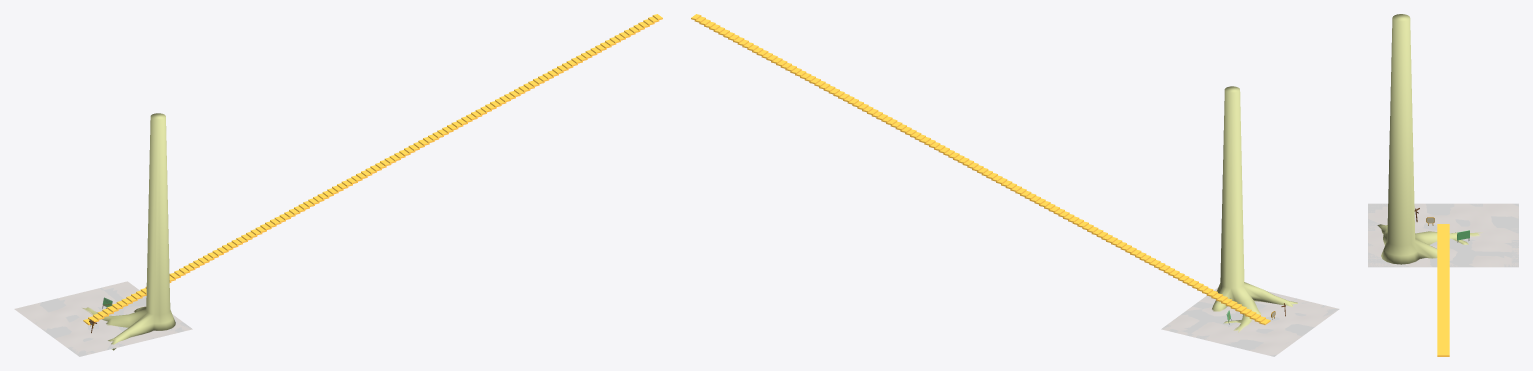
Rendered from rock_kicking_heaven_stairs_ground.glb.
3 renders of one model, left to right at view 1: azimuth 30°, elevation 25°; view 2: azimuth 150°, elevation 25°; view 3: azimuth 270°, elevation 25°, orthographic. The views are drawn at different scales.
Parts seen in each view (by area): view 1: massive_tree, Ground, stairsnew, Clouds; view 2: Ground, massive_tree, stairsnew, Clouds; view 3: massive_tree, Ground, Clouds, stairsnew.
Boxes of the visible parts, x1,y1,x2,y2 form: massive_tree: (82, 113, 175, 350); Ground: (14, 281, 192, 356); stairsnew: (83, 14, 662, 325); Clouds: (15, 281, 192, 354); Ground: (1161, 288, 1339, 356); massive_tree: (1212, 86, 1297, 332); stairsnew: (691, 14, 1270, 324); Clouds: (1163, 288, 1338, 355); massive_tree: (1377, 14, 1482, 264); Ground: (1368, 203, 1518, 267); Clouds: (1368, 203, 1518, 267); stairsnew: (1437, 224, 1449, 356).
Bounding box in the file's own units: 2702 × 926 × 500.
Materials: 9 (1 with a texture image).
